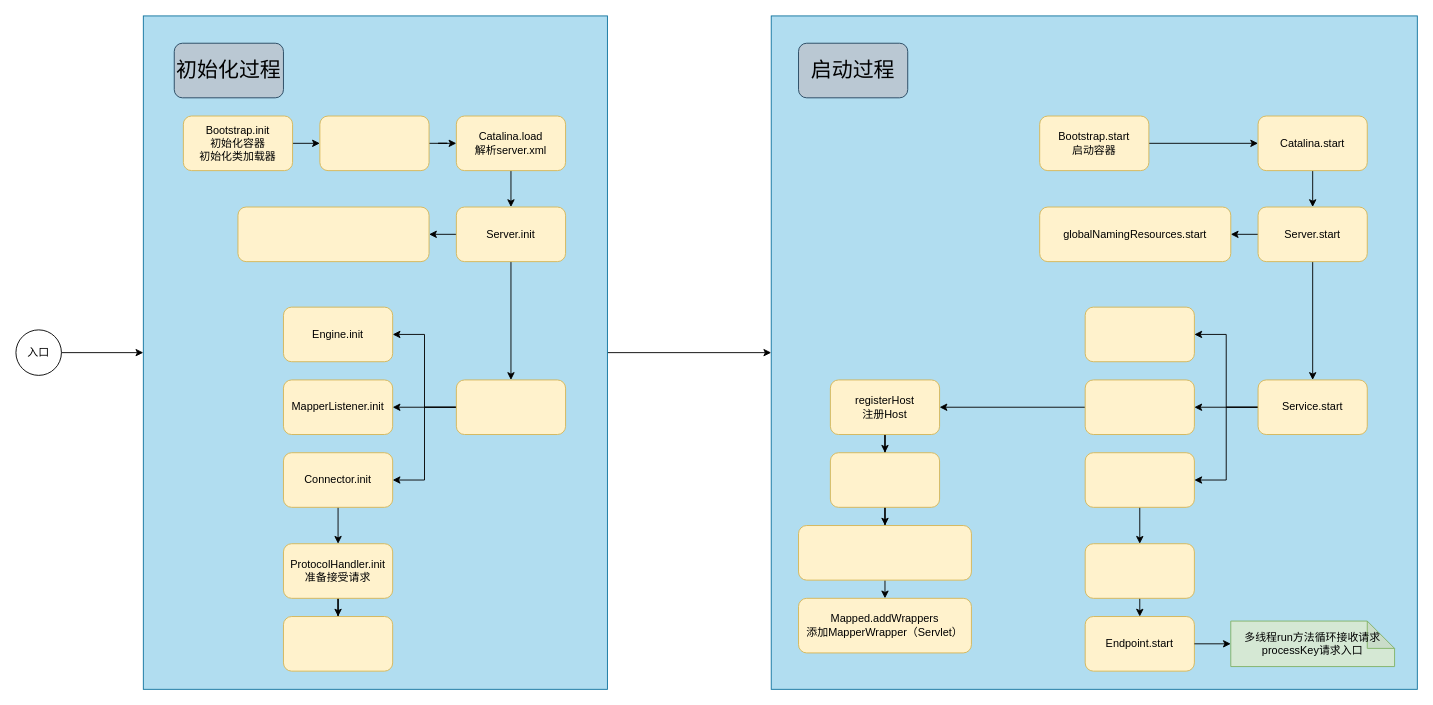
Some shapes in this 1433 by 705 pixel diagram are drawn without their labels. Each missing label, with the centre of its shape:
Bootstrap.load: the point at 374,143
Connector.start: the point at 1139,479
Endpoint.init: the point at 338,643
Engine.start: the point at 1139,334
globalNamingResources.init: the point at 333,234
Mapper.addContextVersion 添加ContextVersion: the point at 884,552
MapperListener.start 添加监听器 处理Servlet: the point at 1139,407
ProtocolHandler.start: the point at 1139,570
registerContext 注册 Context: the point at 884,479
Service.init: the point at 510,407
